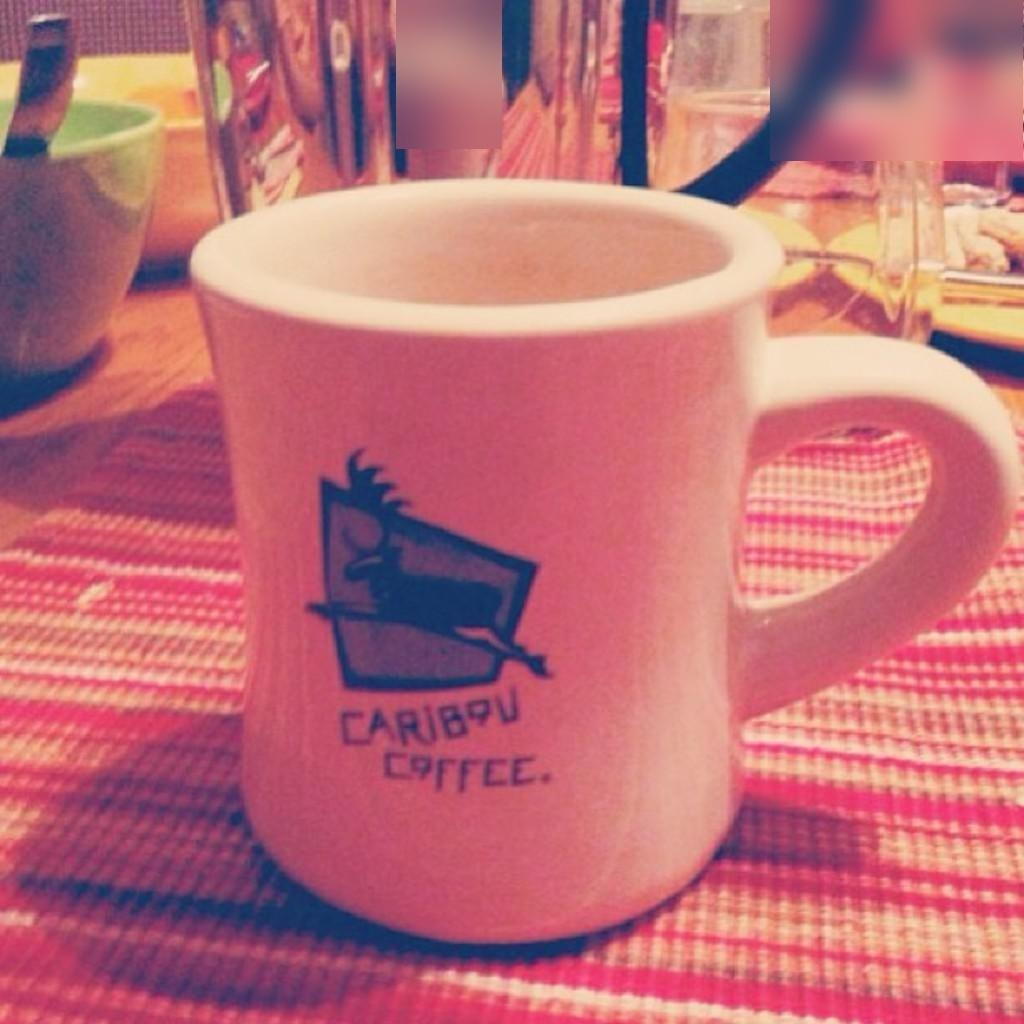cup-handle: (187, 177, 1022, 958)
